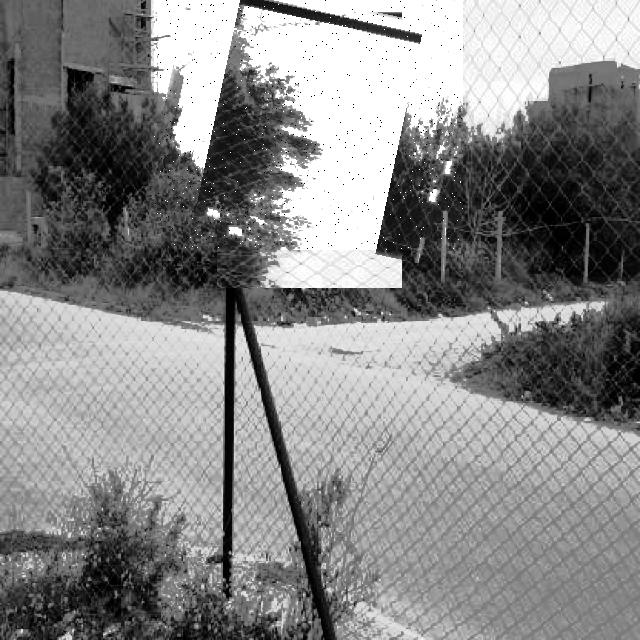anomaly-fence: (154, 0, 463, 250)
